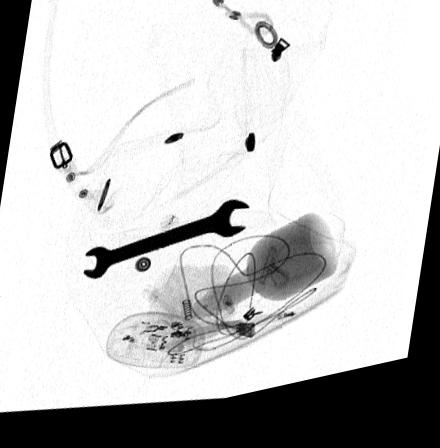Wrench: (80, 207, 252, 283)
